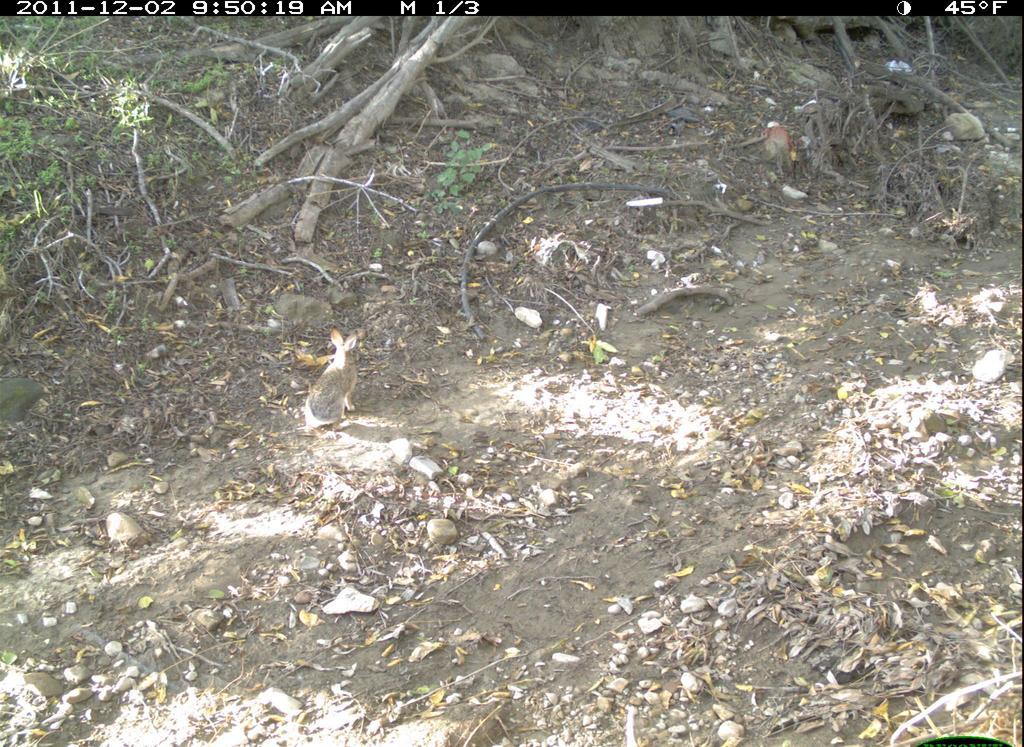rabbit: (294, 324, 382, 437)
